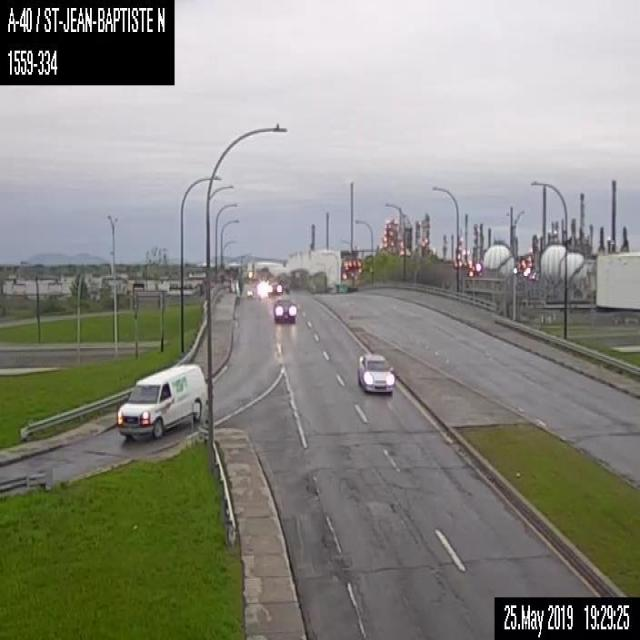vehicle: (115, 360, 206, 440), (356, 349, 396, 394), (273, 298, 297, 321), (266, 278, 282, 294)
